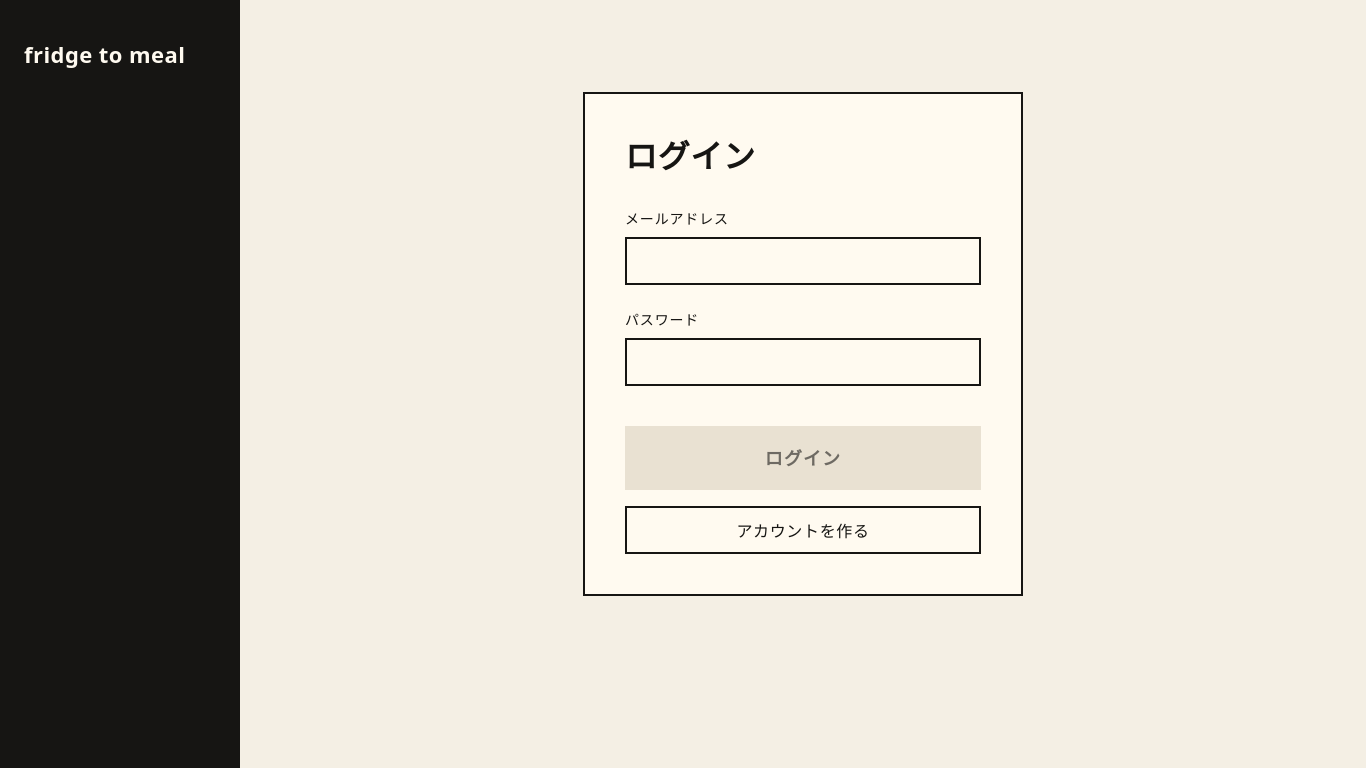
Test: ログイン／作成の出し分け SignedOutScreen › ログインのアカウントを作る操作で作成画面に移る
Click the button "アカウントを作る" at [803, 530], box [625,506,981,554]
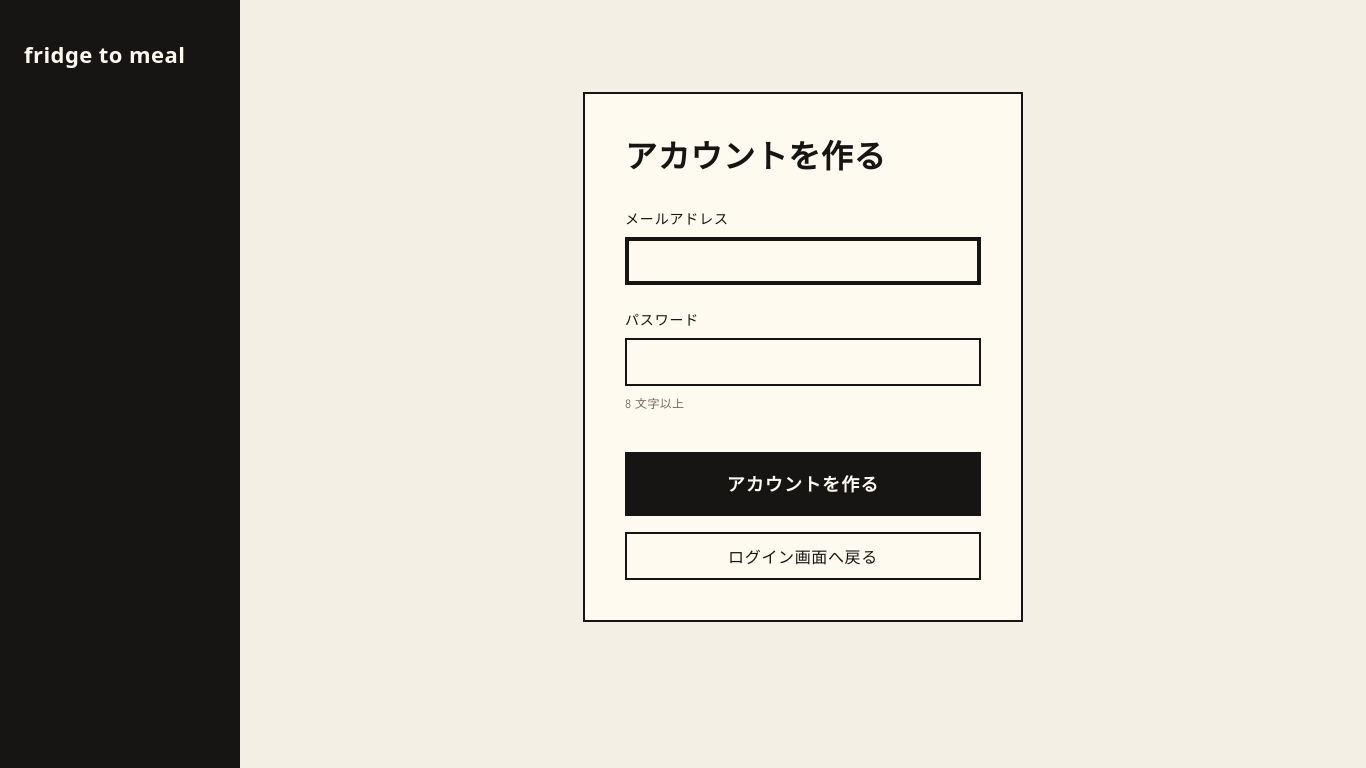
Check: the heading reads "アカウントを作る", box [625,131,886,177]
